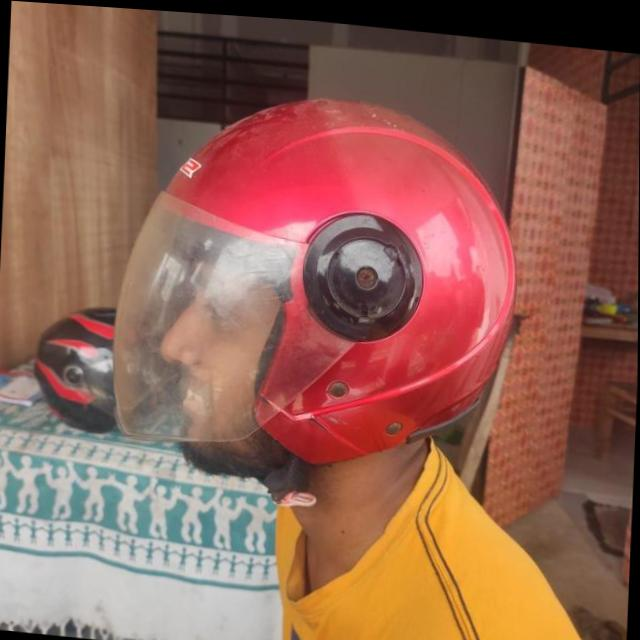helmet: (108, 74, 526, 526)
